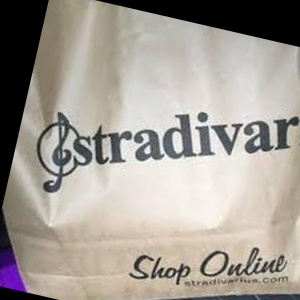stradivarius: (63, 61, 300, 129)
